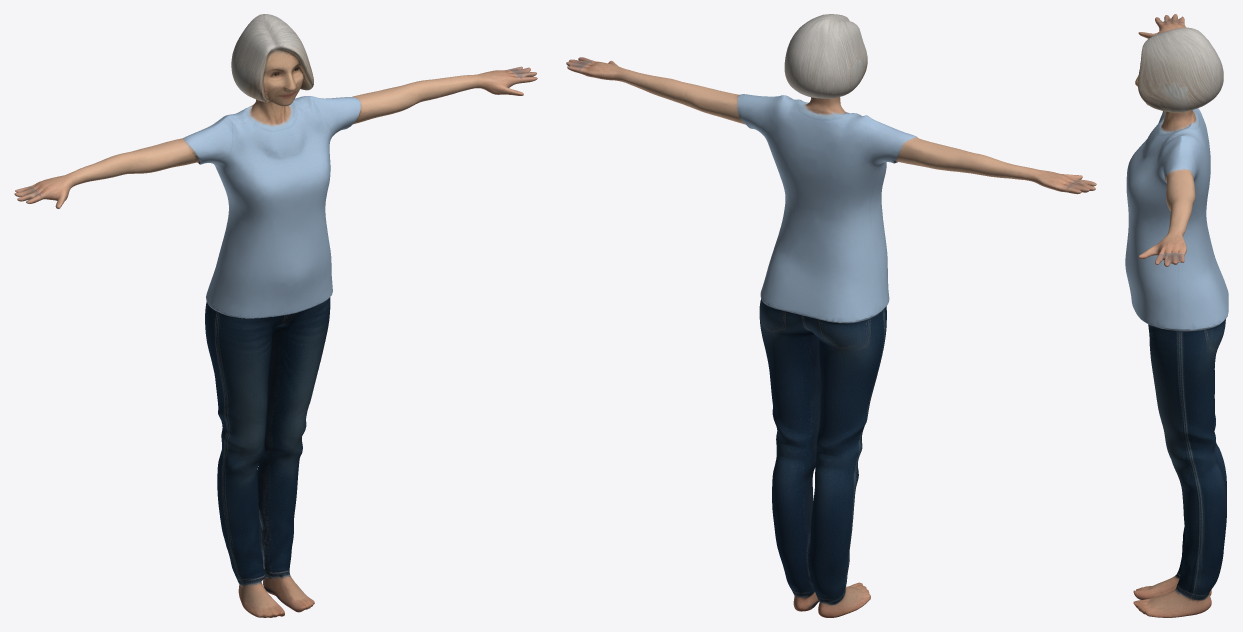
Rendered from Meshy_AI_Graceful_Balance_0927143212_texture.fbx.
The picture shows the model from 3 angles, left to right: view 1: azimuth 30°, elevation 25°; view 2: azimuth 150°, elevation 25°; view 3: azimuth 270°, elevation 25°; orthographic projection. The views are drawn at different scales.
Parts seen in each view (by area): view 1: mesh_node; view 2: mesh_node; view 3: mesh_node.
Part boxes in pixels (bbox=[...]): mesh_node: bbox=[14, 14, 537, 617]; mesh_node: bbox=[566, 14, 1096, 617]; mesh_node: bbox=[1125, 14, 1228, 617].
Bounding box in the file's own units: 177 × 190 × 30.95.
Materials: 1 (1 with a texture image).
